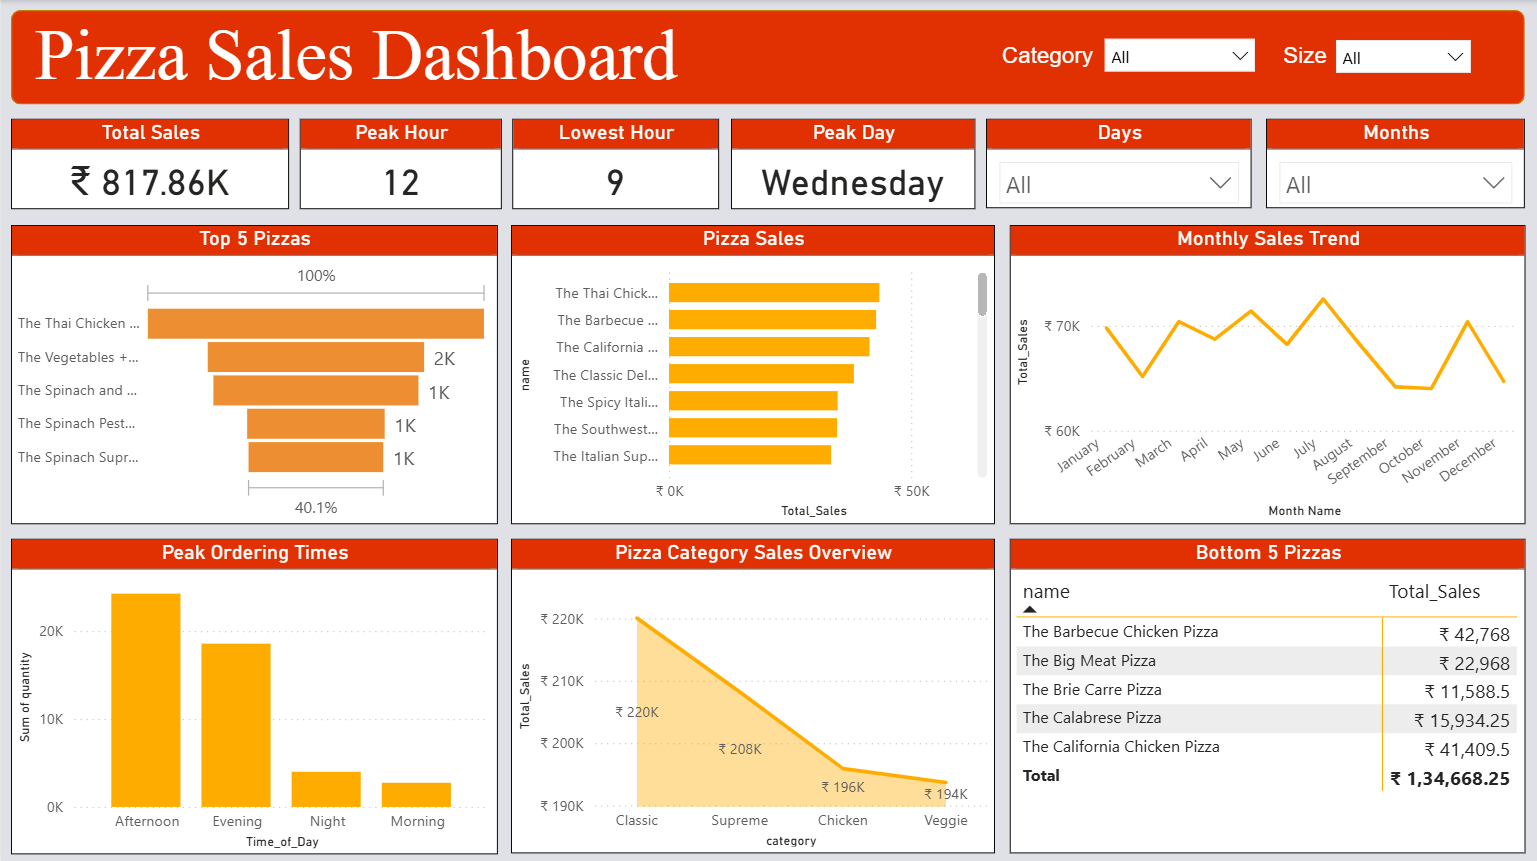

Layout of this report page (visuals, bound fields, positions):
{"tool":"powerbi","page":{"name":"Page 1","canvas":[1280,720],"ordinal":0},"visuals":[{"type":"card","title":"Peak Hour","fields":{"Values":["orders.PeakHour"]},"box":[248.3,98.3,168.3,75],"z":0},{"type":"card","title":"Lowest Hour","fields":{"Values":["orders.LowestHour"]},"box":[425,98.3,171.7,75],"z":1000},{"type":"card","title":"Peak Day","fields":{"Values":["orders.PeakDay"]},"box":[606.7,98.3,203.3,75],"z":2000},{"type":"card","title":"Total Sales","fields":{"Values":["order_details.Total_Sales"]},"box":[8.8,98.8,231.2,75],"z":3000},{"type":"slicer","title":"Days","fields":{"Values":["DayTable.Day Name"]},"box":[818.9,98.9,221.1,74.4],"z":4000},{"type":"funnel","title":"Top 5 Pizzas","fields":{"Category":["Pizza_types.name"],"Y":["Sum(order_details.quantity)"]},"box":[8.1,187.2,404.7,248.8],"z":5000},{"type":"barChart","title":"Pizza Sales","fields":{"Y":["order_details.Total_Sales"],"Category":["Pizza_types.name"]},"box":[424.4,187.2,402.3,248.8],"z":6000},{"type":"columnChart","title":"Peak Ordering Times","fields":{"Category":["orders.Time_of_Day"],"Y":["Sum(order_details.quantity)"]},"box":[8.1,447.7,404.7,262.8],"z":7000},{"type":"lineChart","title":"Monthly Sales Trend","fields":{"Category":["orders.Month Name"],"Y":["order_details.Total_Sales"]},"box":[838.4,187.2,429.1,248.8],"z":8000},{"type":"shape","title":"Pizza Sales Dashboard ","box":[8.6,8.6,1258.6,78.6],"z":9000},{"type":"textbox","box":[8.1,8.1,597.7,79.1],"z":10000},{"type":"slicer","fields":{"Values":["Pizza_types.category"]},"box":[907.8,22.2,145.6,47.8],"z":11000},{"type":"textbox","box":[827.3,30.9,90,31.8],"z":12000},{"type":"textbox","box":[1061.1,31.1,47.8,38.9],"z":13000},{"type":"slicer","fields":{"Values":["pizzas.size"]},"box":[1100,23.3,132.2,48.9],"z":14000},{"type":"slicer","title":"Months","fields":{"Values":["orders.Month Name"]},"box":[1052.2,98.9,215.6,74.4],"z":15000},{"type":"pivotTable","title":"Bottom 5 Pizzas","fields":{"Rows":["Pizza_types.name"],"Values":["order_details.Total_Sales"]},"box":[838.4,447.7,429.1,261.6],"z":16000},{"type":"stackedAreaChart","title":"Pizza Category Sales Overview","fields":{"Category":["Pizza_types.category"],"Y":["order_details.Total_Sales"]},"box":[424.4,447.7,402.3,261.6],"z":17000}]}

Visuals, with their boxes in screenshot pixels (x1, y1, x2, y2), scaled from the page's 1280x720 canvas onto the 1537x861 screenshot:
"Peak Hour" card: <box>298,118,500,207</box>
"Lowest Hour" card: <box>510,118,717,207</box>
"Peak Day" card: <box>729,118,973,207</box>
"Total Sales" card: <box>11,118,288,208</box>
"Days" slicer: <box>983,118,1249,207</box>
"Top 5 Pizzas" funnel: <box>10,224,496,521</box>
"Pizza Sales" barChart: <box>510,224,993,521</box>
"Peak Ordering Times" columnChart: <box>10,535,496,850</box>
"Monthly Sales Trend" lineChart: <box>1007,224,1522,521</box>
"Pizza Sales Dashboard " shape: <box>10,10,1522,104</box>
textbox: <box>10,10,727,104</box>
slicer - Pizza_types.category: <box>1090,27,1265,84</box>
textbox: <box>993,37,1101,75</box>
textbox: <box>1274,37,1332,84</box>
slicer - pizzas.size: <box>1321,28,1480,86</box>
"Months" slicer: <box>1263,118,1522,207</box>
"Bottom 5 Pizzas" pivotTable: <box>1007,535,1522,848</box>
"Pizza Category Sales Overview" stackedAreaChart: <box>510,535,993,848</box>
